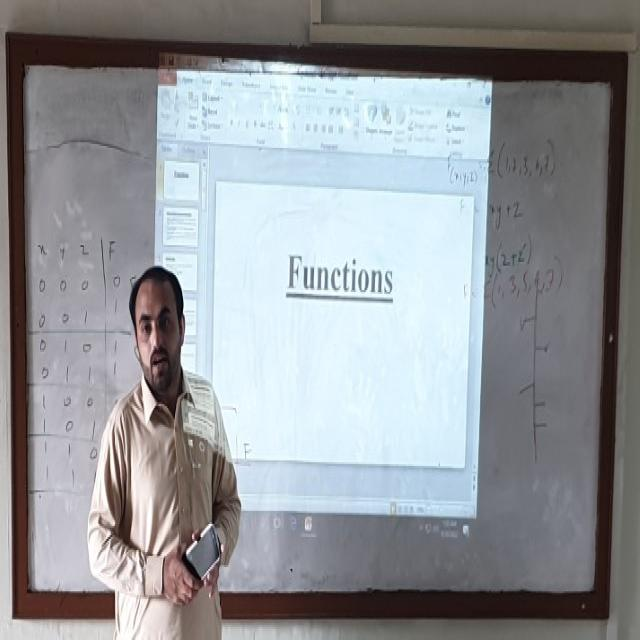Instructor: (105, 254, 231, 640)
Slide: (145, 60, 492, 545)
White-board: (17, 47, 622, 606)
